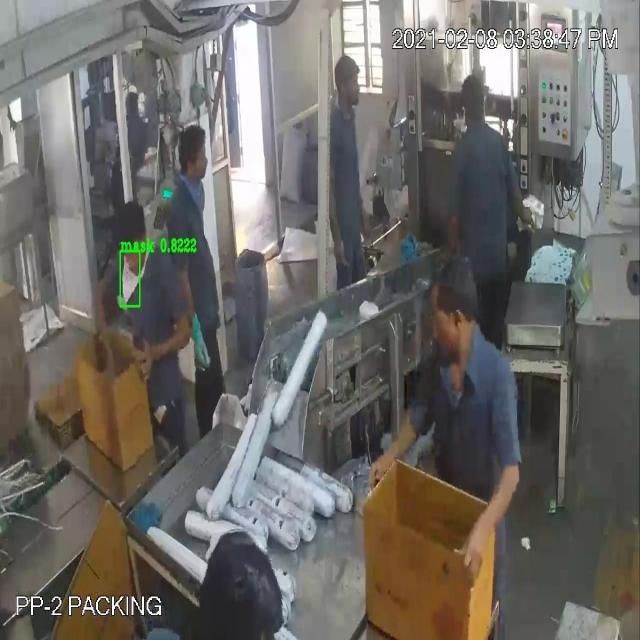No_Gloves: (25, 71, 492, 506)
